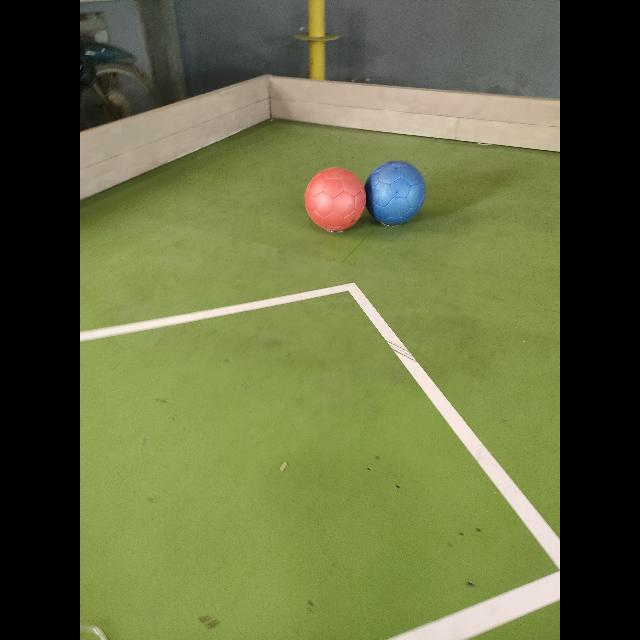B: (365, 161, 425, 226)
R: (305, 168, 366, 231)
